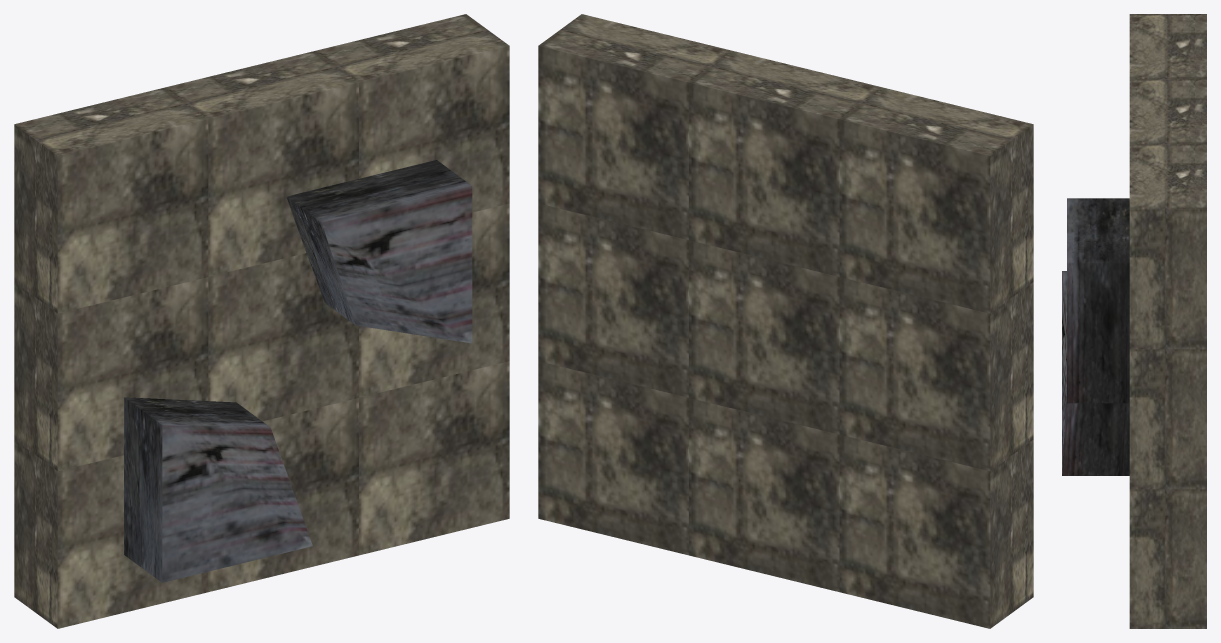
The model's file is tdmtest1.glb.
3 renders of one model, left to right at view 1: azimuth 30°, elevation 25°; view 2: azimuth 150°, elevation 25°; view 3: azimuth 270°, elevation 25°, orthographic. The views are drawn at different scales.
Visible parts, largest first — view 1: Cube.6692, Cube.6701, Cube.6693, Cube.6690, Cube.6702, Cube.6688, Cube.6698, Cube.6700, Cube.6691, Cube.6699, Cube.6689; view 2: Cube.6692, Cube.6693, Cube.6700, Cube.6690, Cube.6688, Cube.6691, Cube.6698, Cube.6699, Cube.6689; view 3: Cube.6688, Cube.6702, Cube.6689, Cube.6698, Cube.6701, Cube.6690, Cube.6692.
Part boxes in pixels (bbox=[...]): Cube.6692: bbox=[14, 87, 208, 313]; Cube.6701: bbox=[124, 397, 312, 582]; Cube.6693: bbox=[14, 277, 208, 471]; Cube.6690: bbox=[165, 51, 358, 276]; Cube.6702: bbox=[286, 160, 472, 343]; Cube.6688: bbox=[316, 14, 509, 212]; Cube.6698: bbox=[359, 361, 509, 555]; Cube.6700: bbox=[14, 440, 208, 628]; Cube.6691: bbox=[208, 253, 358, 421]; Cube.6699: bbox=[208, 398, 358, 591]; Cube.6689: bbox=[359, 203, 509, 397]; Cube.6692: bbox=[839, 87, 1033, 313]; Cube.6693: bbox=[839, 277, 1033, 471]; Cube.6700: bbox=[839, 435, 1033, 628]; Cube.6690: bbox=[689, 51, 882, 276]; Cube.6688: bbox=[538, 14, 731, 239]; Cube.6691: bbox=[689, 240, 839, 434]; Cube.6698: bbox=[538, 361, 688, 555]; Cube.6699: bbox=[689, 398, 839, 591]; Cube.6689: bbox=[538, 203, 688, 397]; Cube.6688: bbox=[1129, 144, 1206, 349]; Cube.6702: bbox=[1067, 198, 1129, 403]; Cube.6689: bbox=[1129, 349, 1206, 489]; Cube.6698: bbox=[1129, 489, 1206, 628]; Cube.6701: bbox=[1062, 271, 1129, 475]; Cube.6690: bbox=[1129, 79, 1206, 144]; Cube.6692: bbox=[1129, 14, 1206, 79].
Size of the model in its own units: 60 by 60 by 18.79.
2 materials, 2 textured.
